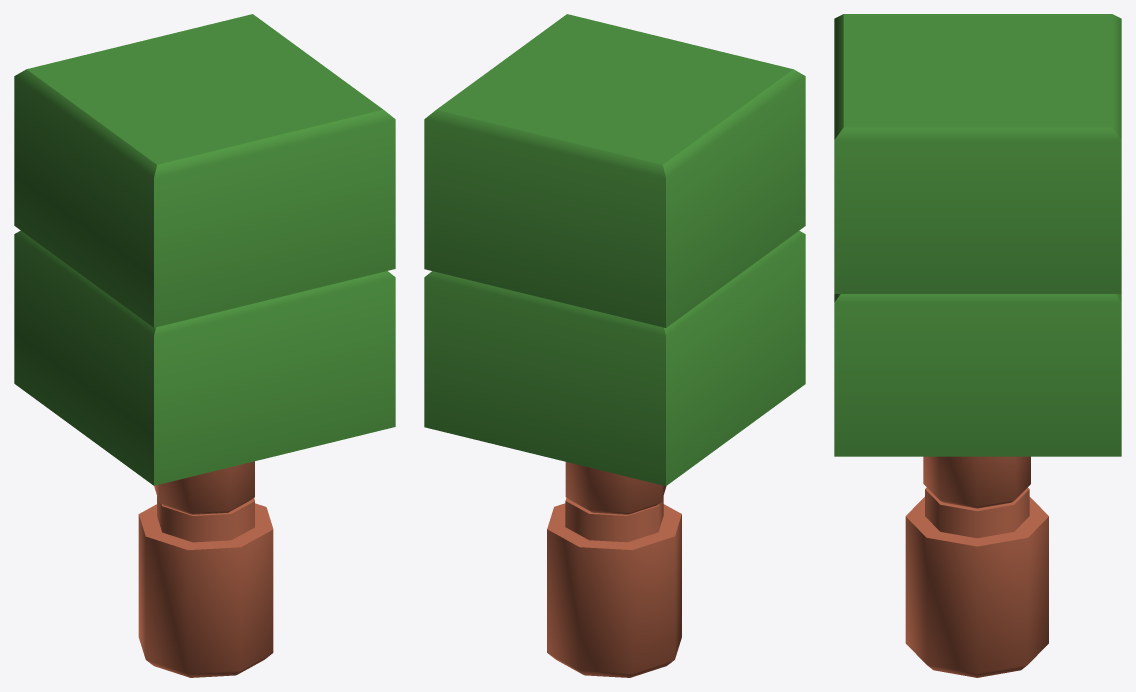
File: tree03.glb
3 views of the same model, side by side, from view 1: azimuth 30°, elevation 25°; view 2: azimuth 150°, elevation 25°; view 3: azimuth 270°, elevation 25° (orthographic). The views are drawn at different scales.
Visible parts, largest first — view 1: none-hq-brick-1x1-round; view 2: none-hq-brick-1x1-round; view 3: none-hq-brick-1x1-round.
Boxes of the visible parts, x1,y1,x2,y2 form: none-hq-brick-1x1-round: [14, 14, 395, 677]; none-hq-brick-1x1-round: [424, 14, 805, 677]; none-hq-brick-1x1-round: [834, 14, 1121, 677].
Bounding box in the file's own units: 1 × 2.24 × 1.
